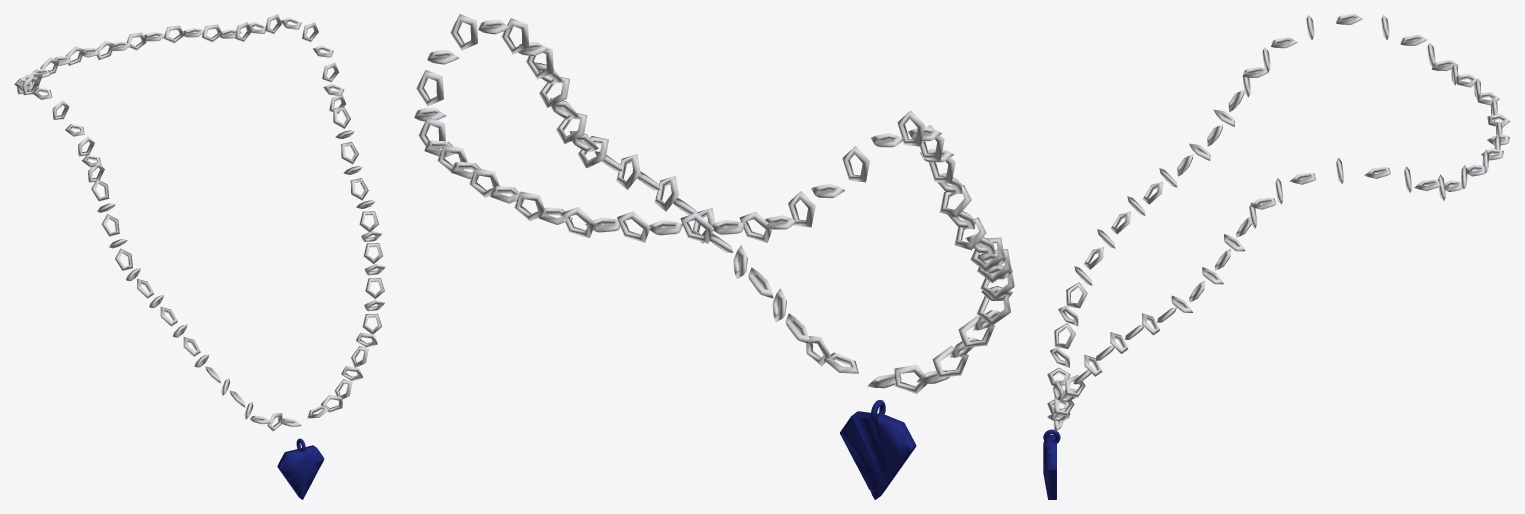
Rendered from acc_chain_diamond.glb.
The picture shows the model from 3 angles, left to right: view 1: azimuth 30°, elevation 25°; view 2: azimuth 150°, elevation 25°; view 3: azimuth 270°, elevation 25°; orthographic projection. The views are drawn at different scales.
Visible parts, largest first — view 1: acc_chain_diamond_0_metal, acc_chain_diamond_1_secondary; view 2: acc_chain_diamond_0_metal, acc_chain_diamond_1_secondary; view 3: acc_chain_diamond_0_metal, acc_chain_diamond_1_secondary.
Part boxes in pixels (bbox=[...]): acc_chain_diamond_0_metal: bbox=[14, 14, 385, 431]; acc_chain_diamond_1_secondary: bbox=[277, 438, 324, 499]; acc_chain_diamond_0_metal: bbox=[414, 14, 1014, 393]; acc_chain_diamond_1_secondary: bbox=[840, 400, 916, 499]; acc_chain_diamond_0_metal: bbox=[1047, 14, 1510, 431]; acc_chain_diamond_1_secondary: bbox=[1043, 429, 1060, 499].
Bounding box in the file's own units: 0.1856 × 0.2239 × 0.228.
